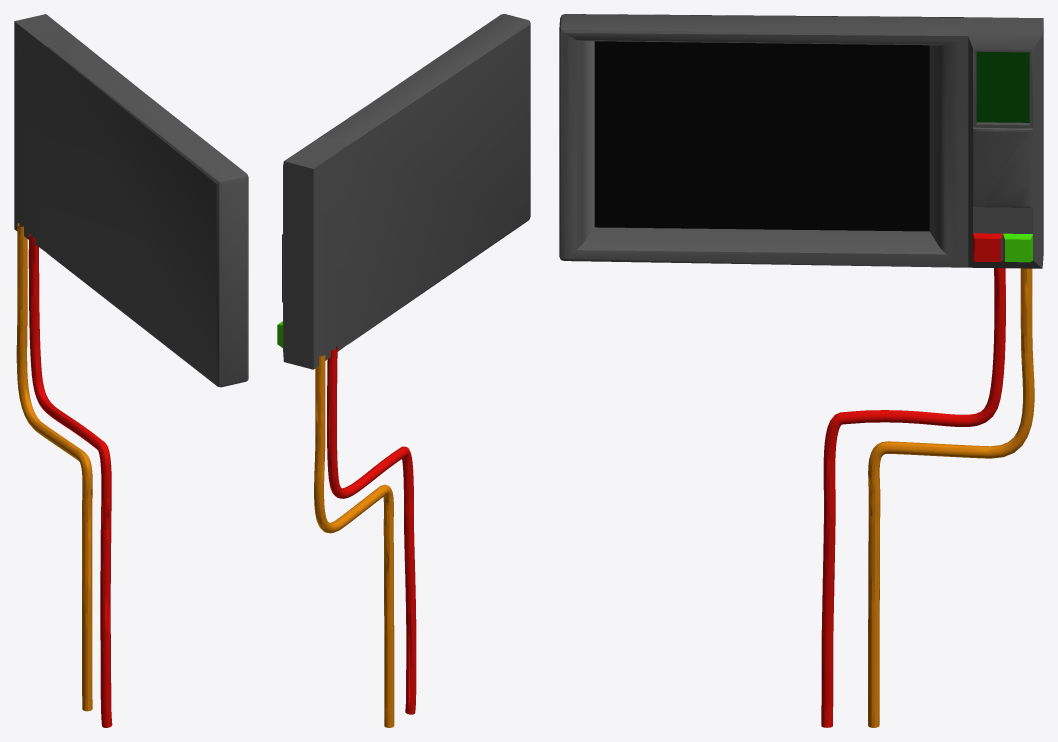
Rendered from SpaceShipMonitor1.glb.
3 views of the same model, side by side, from view 1: azimuth 30°, elevation 25°; view 2: azimuth 150°, elevation 25°; view 3: azimuth 270°, elevation 25° (orthographic). The views are drawn at different scales.
Parts seen in each view (by area): view 1: ComputerScreen; view 2: ComputerScreen; view 3: ComputerScreen.
Boxes of the visible parts, x1,y1,x2,y2 form: ComputerScreen: (14,14,248,727); ComputerScreen: (277,14,530,727); ComputerScreen: (559,14,1043,727).
Bounding box in the file's own units: 0.1203 × 1.34 × 0.829.
